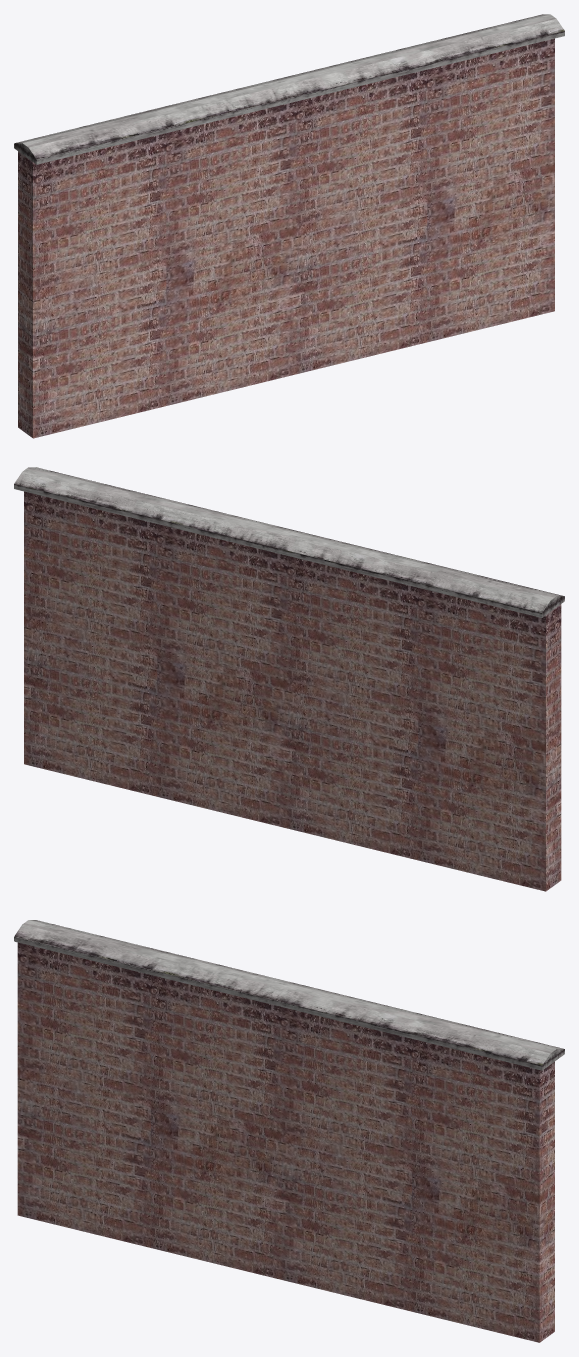
File: BrickWall_Panel_Overhang_Model.fbx
3 renders of one model, top to bottom at view 1: azimuth 30°, elevation 25°; view 2: azimuth 150°, elevation 25°; view 3: azimuth 330°, elevation 25°, orthographic.
Visible parts, largest first — view 1: Body; view 2: Body; view 3: Body.
Part boxes in pixels (bbox=[...]): Body: bbox=[14, 14, 564, 438]; Body: bbox=[14, 467, 564, 891]; Body: bbox=[14, 920, 564, 1342].
Size of the model in its own units: 400 by 208 by 30.
